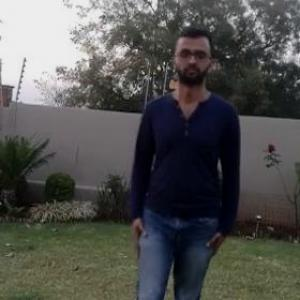follow: (125, 31, 238, 299)
